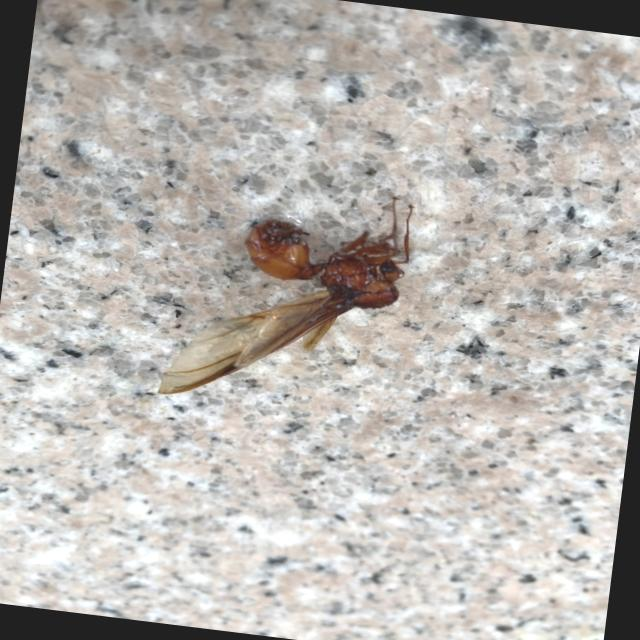Dead-Male-Alate: (157, 170, 417, 422)
